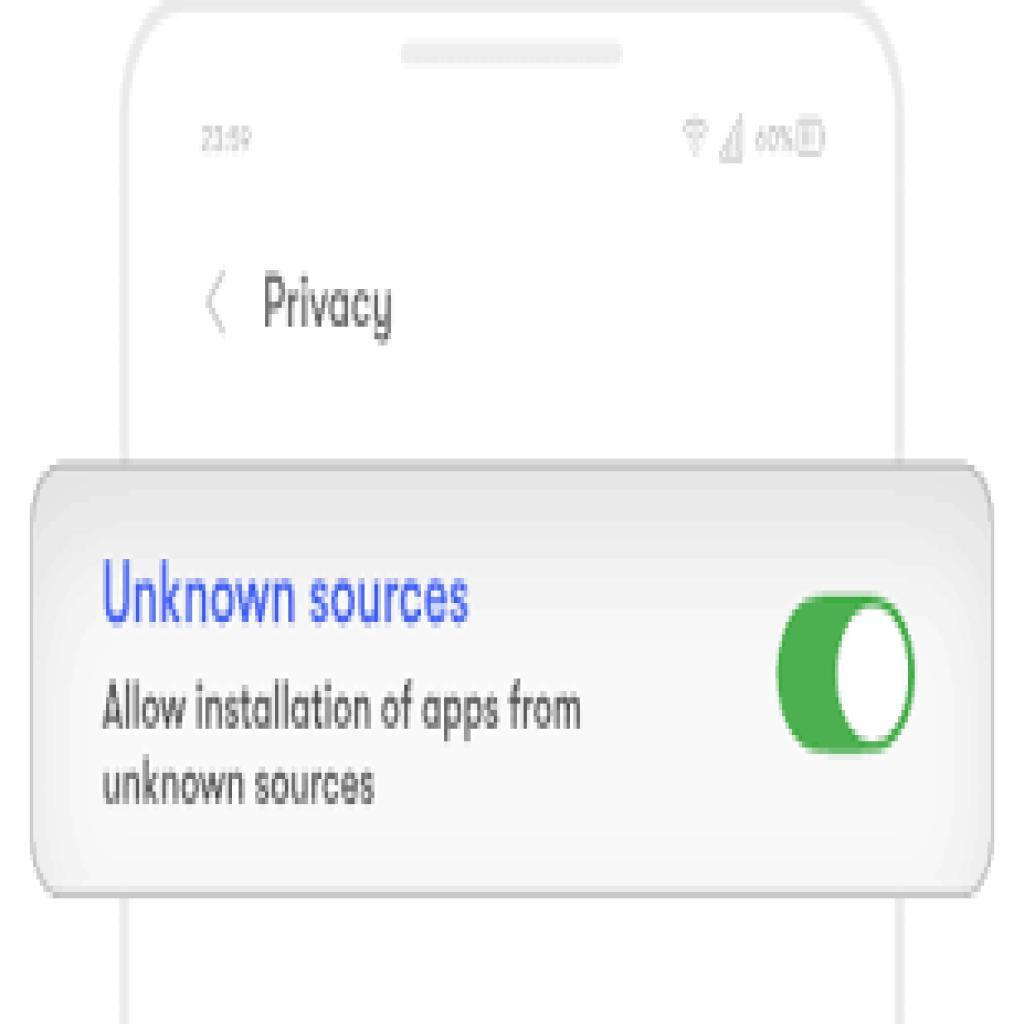switch: (777, 595, 917, 754)
